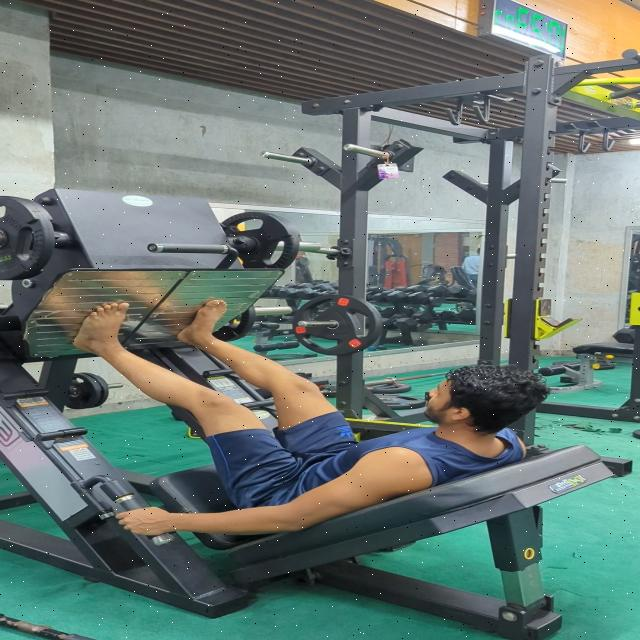Normal_LegPress: (62, 292, 566, 542)
